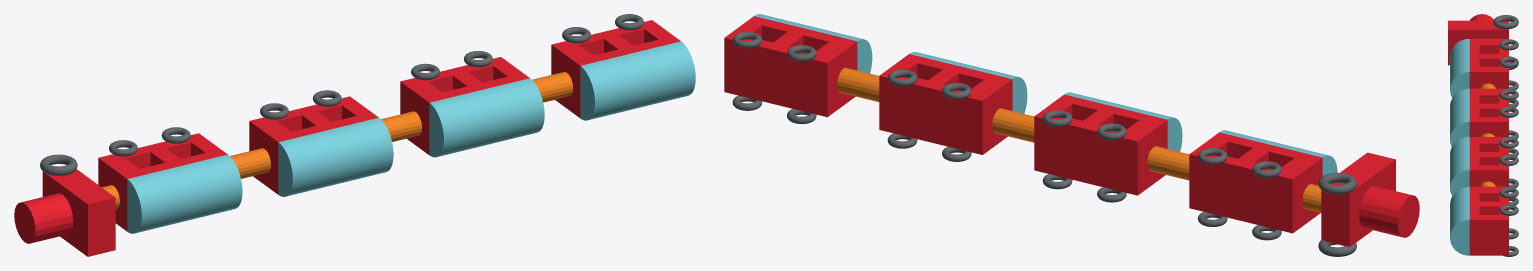
Rendered from tinker.obj.
3 renders of one model, left to right at view 1: azimuth 30°, elevation 25°; view 2: azimuth 150°, elevation 25°; view 3: azimuth 270°, elevation 25°, orthographic. The views are drawn at different scales.
Parts seen in each view (by area): view 1: group_0_7720667, group_0_15277357, group_0_6383466, group_0_16089887; view 2: group_0_15277357, group_0_6383466, group_0_16089887, group_0_7720667; view 3: group_0_15277357, group_0_7720667, group_0_6383466, group_0_16089887.
Part boxes in pixels (left/top/right/bottom): group_0_7720667: left=127, top=41, right=695, bottom=233; group_0_15277357: left=14, top=20, right=680, bottom=256; group_0_6383466: left=40, top=14, right=643, bottom=236; group_0_16089887: left=102, top=72, right=573, bottom=209; group_0_15277357: left=724, top=16, right=1419, bottom=247; group_0_6383466: left=732, top=31, right=1356, bottom=256; group_0_16089887: left=837, top=67, right=1321, bottom=212; group_0_7720667: left=754, top=14, right=1337, bottom=176; group_0_15277357: left=1448, top=14, right=1508, bottom=255; group_0_7720667: left=1450, top=39, right=1469, bottom=255; group_0_6383466: left=1493, top=15, right=1518, bottom=256; group_0_16089887: left=1480, top=83, right=1495, bottom=186.
Bounding box in the file's own units: 257 × 26.5 × 36.
